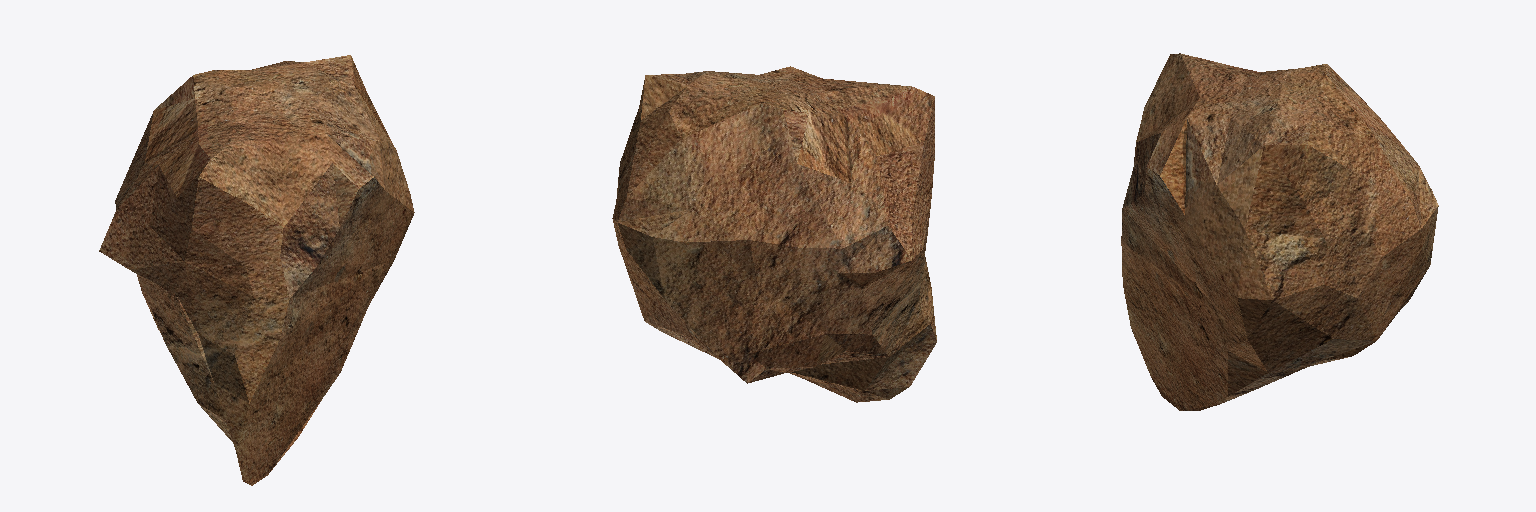
3 renders of one model, left to right at view 1: azimuth 30°, elevation 25°; view 2: azimuth 150°, elevation 25°; view 3: azimuth 270°, elevation 25°, orthographic.
Parts seen in each view (by area): view 1: Cube_007_Cube_008; view 2: Cube_007_Cube_008; view 3: Cube_007_Cube_008.
Boxes of the visible parts, x1=… form: Cube_007_Cube_008: x1=99, y1=55, x2=414, y2=485; Cube_007_Cube_008: x1=612, y1=66, x2=936, y2=402; Cube_007_Cube_008: x1=1121, y1=53, x2=1438, y2=410.
Bounding box in the file's own units: 1.75 × 1.93 × 1.59.
Materials: 1 (1 with a texture image).